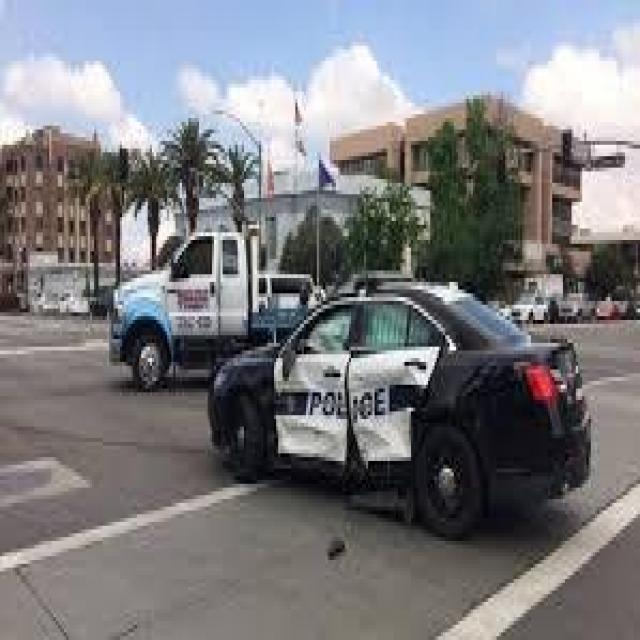damaged: (236, 354, 422, 488)
